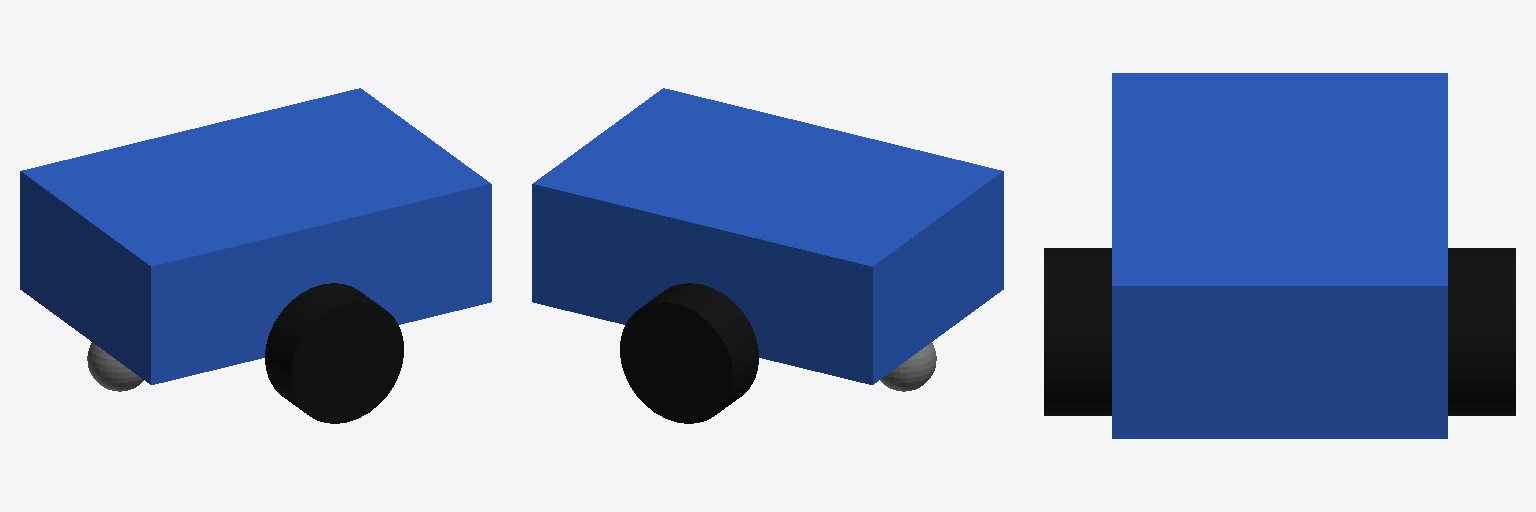
robot.urdf — drobot:
<?xml version="1.0"?>
<robot name="drobot">

  <!-- ========== Base Link (차체) ========== -->
  <link name="base_link">
    <visual>
      <geometry>
        <box size="0.3 0.2 0.1"/>
      </geometry>
      <origin xyz="0 0 0.05" rpy="0 0 0"/>
      <material name="blue">
        <color rgba="0.2 0.4 0.8 1.0"/>
      </material>
    </visual>
    <collision>
      <geometry>
        <box size="0.3 0.2 0.1"/>
      </geometry>
      <origin xyz="0 0 0.05" rpy="0 0 0"/>
    </collision>
    <inertial>
      <mass value="2.0"/>
      <origin xyz="0 0 0.05" rpy="0 0 0"/>
      <inertia ixx="0.01" ixy="0" ixz="0" iyy="0.01" iyz="0" izz="0.02"/>
    </inertial>
  </link>

  <!-- ========== Left Wheel ========== -->
  <link name="left_wheel">
    <visual>
      <geometry>
        <cylinder radius="0.05" length="0.04"/>
      </geometry>
      <origin xyz="0 0 0" rpy="1.5708 0 0"/>
      <material name="black">
        <color rgba="0.1 0.1 0.1 1.0"/>
      </material>
    </visual>
    <collision>
      <geometry>
        <cylinder radius="0.05" length="0.04"/>
      </geometry>
      <origin xyz="0 0 0" rpy="1.5708 0 0"/>
    </collision>
    <inertial>
      <mass value="0.2"/>
      <origin xyz="0 0 0" rpy="1.5708 0 0"/>
      <inertia ixx="0.0001" ixy="0" ixz="0" iyy="0.0001" iyz="0" izz="0.0002"/>
    </inertial>
  </link>

  <joint name="left_wheel_joint" type="continuous">
    <parent link="base_link"/>
    <child link="left_wheel"/>
    <origin xyz="0 0.12 0" rpy="0 0 0"/>
    <axis xyz="0 1 0"/>
  </joint>

  <!-- ========== Right Wheel ========== -->
  <link name="right_wheel">
    <visual>
      <geometry>
        <cylinder radius="0.05" length="0.04"/>
      </geometry>
      <origin xyz="0 0 0" rpy="1.5708 0 0"/>
      <material name="black">
        <color rgba="0.1 0.1 0.1 1.0"/>
      </material>
    </visual>
    <collision>
      <geometry>
        <cylinder radius="0.05" length="0.04"/>
      </geometry>
      <origin xyz="0 0 0" rpy="1.5708 0 0"/>
    </collision>
    <inertial>
      <mass value="0.2"/>
      <origin xyz="0 0 0" rpy="1.5708 0 0"/>
      <inertia ixx="0.0001" ixy="0" ixz="0" iyy="0.0001" iyz="0" izz="0.0002"/>
    </inertial>
  </link>

  <joint name="right_wheel_joint" type="continuous">
    <parent link="base_link"/>
    <child link="right_wheel"/>
    <origin xyz="0 -0.12 0" rpy="0 0 0"/>
    <axis xyz="0 1 0"/>
  </joint>

  <!-- ========== Caster Wheel (보조 바퀴) ========== -->
  <link name="caster_wheel">
    <visual>
      <geometry>
        <sphere radius="0.025"/>
      </geometry>
      <material name="gray">
        <color rgba="0.5 0.5 0.5 1.0"/>
      </material>
    </visual>
    <collision>
      <geometry>
        <sphere radius="0.025"/>
      </geometry>
    </collision>
    <inertial>
      <mass value="0.1"/>
      <inertia ixx="0.00001" ixy="0" ixz="0" iyy="0.00001" iyz="0" izz="0.00001"/>
    </inertial>
  </link>

  <joint name="caster_joint" type="fixed">
    <parent link="base_link"/>
    <child link="caster_wheel"/>
    <origin xyz="-0.12 0 -0.025" rpy="0 0 0"/>
  </joint>

</robot>

--- Render facts (derived) ---
3 views of the same robot in one strip: view 1: azimuth 30°, elevation 25°; view 2: azimuth 150°, elevation 25°; view 3: azimuth 270°, elevation 25° (orthographic).
Model drobot with 4 links and 3 joints (2 continuous, 1 fixed), rooted at base_link, posed all joints at 0.
Visible links, largest first — view 1: base_link, right_wheel, caster_wheel; view 2: base_link, left_wheel, caster_wheel; view 3: base_link, left_wheel, right_wheel.
Boxes of the visible links, x1,y1,x2,y2 form: base_link: [20, 88, 491, 384]; right_wheel: [265, 283, 403, 423]; caster_wheel: [87, 342, 143, 391]; base_link: [532, 88, 1003, 384]; left_wheel: [620, 283, 758, 423]; caster_wheel: [880, 342, 936, 391]; base_link: [1112, 73, 1447, 438]; left_wheel: [1448, 248, 1515, 415]; right_wheel: [1044, 248, 1111, 415].
Size in the robot's own frame: 0.3 by 0.28 by 0.15 metres.
Geometry: primitives only (box / cylinder / sphere), no mesh files.
